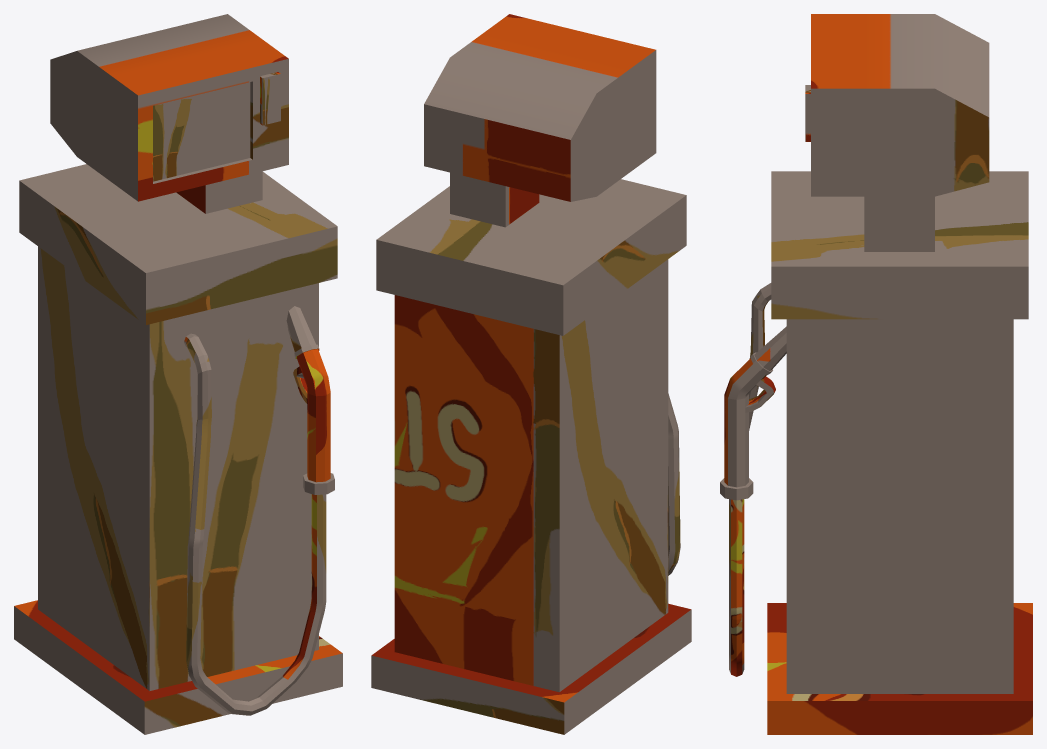
File: gasPumpFBX.fbx
The picture shows the model from 3 angles, left to right: view 1: azimuth 30°, elevation 25°; view 2: azimuth 150°, elevation 25°; view 3: azimuth 270°, elevation 25°; orthographic projection. The views are drawn at different scales.
Visible parts, largest first — view 1: gas, gasPump, gasScreen, gasButton; view 2: gas, gasPump; view 3: gas, gasPump.
Boxes of the visible parts, <box> form: gas: <box>14,14,342,734</box>; gasPump: <box>184,306,334,715</box>; gasScreen: <box>153,82,250,181</box>; gasButton: <box>260,72,280,125</box>; gas: <box>371,14,691,734</box>; gasPump: <box>668,393,680,575</box>; gas: <box>767,14,1032,734</box>; gasPump: <box>720,283,786,676</box>.
Size of the model in its own units: 1.85 by 5.54 by 2.5.
